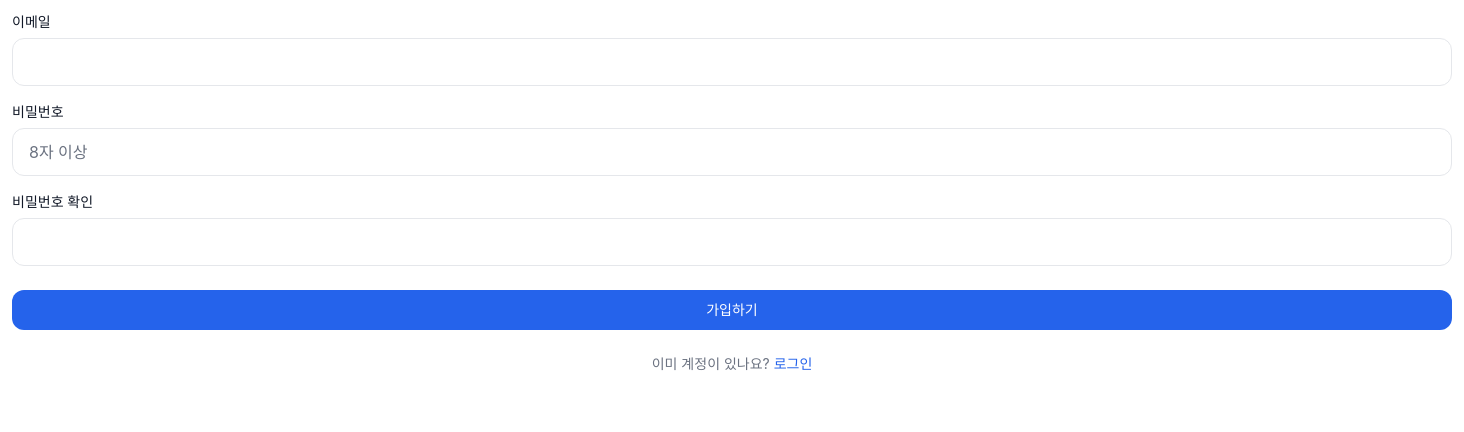
SignupForm › 액션이 폼 전체 오류를 돌려주면 signup_failed 이벤트를 서버 거절로 보낸다
Type "user@example.com" into the field labelled "이메일" at (732, 62), box [12, 38, 1452, 86]
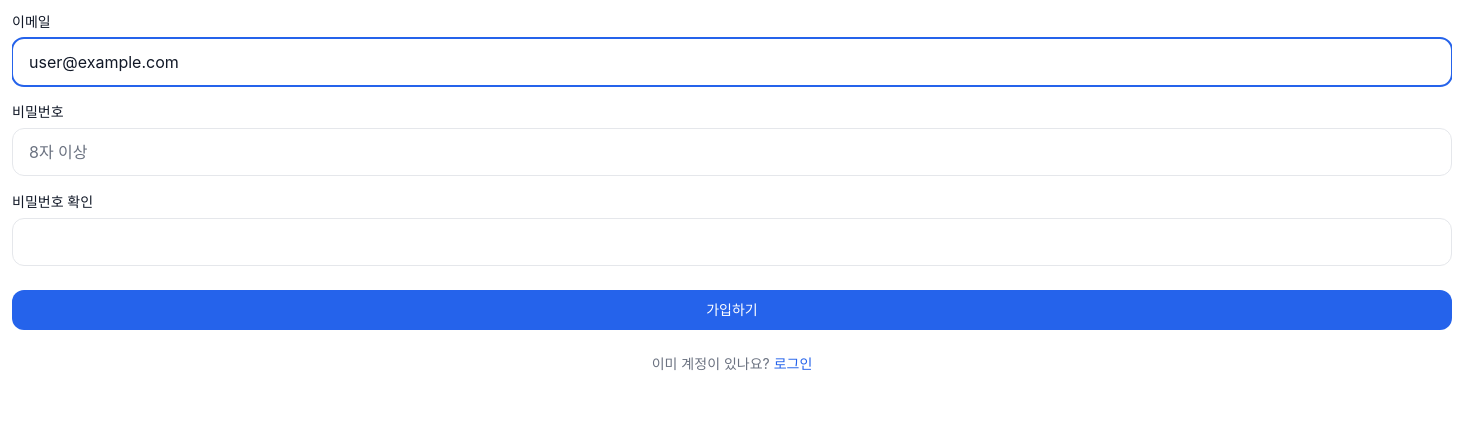
Type "password123" into the password field labelled "비밀번호" at (732, 152), box [12, 128, 1452, 176]
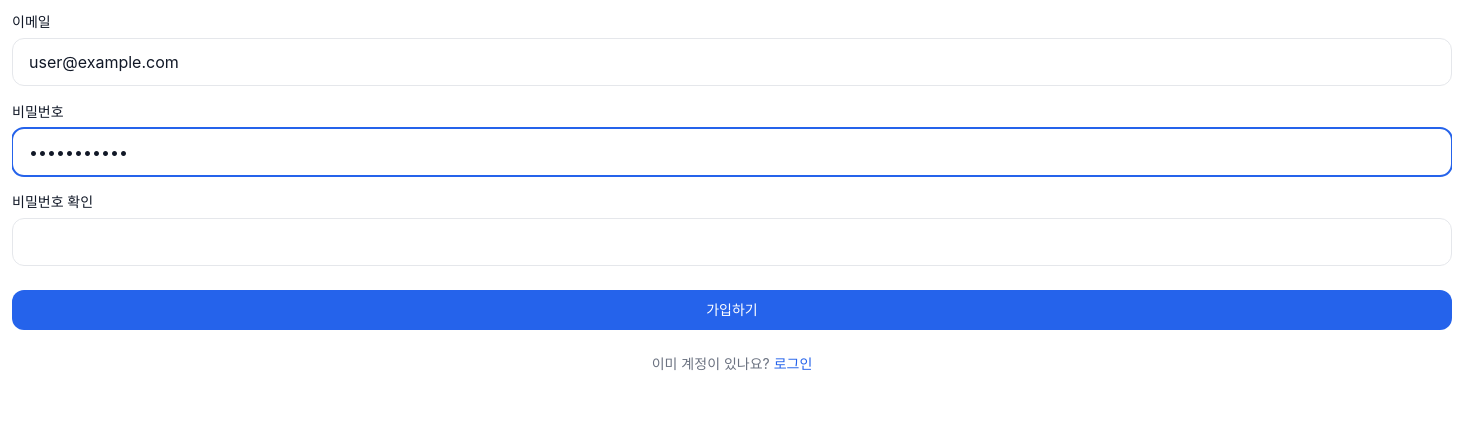
Type "password123" into the password field labelled "비밀번호 확인" at (732, 242), box [12, 218, 1452, 266]
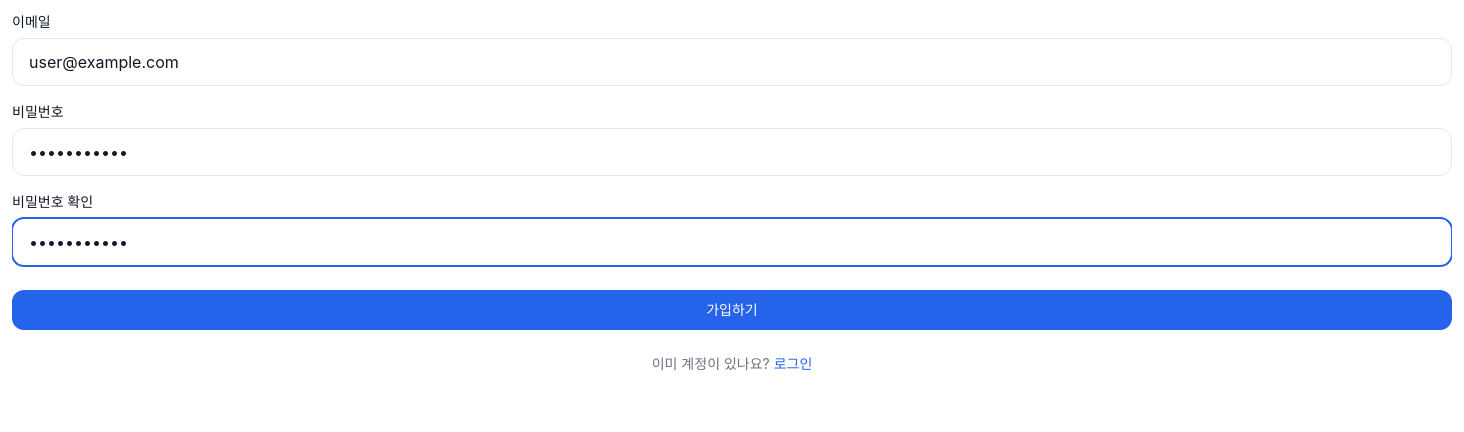
Click the button "가입하기" at (732, 310), box [12, 290, 1452, 330]
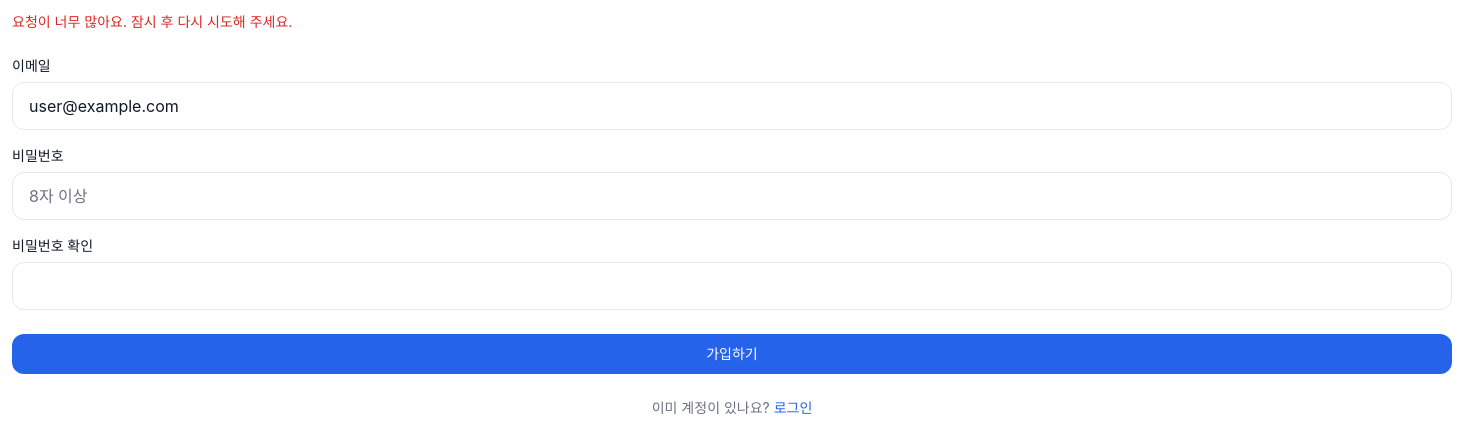
Expected: the message "요청이 너무 많아요. 잠시 후 다시 시도해 주세요." is shown, [12, 13, 292, 30]
